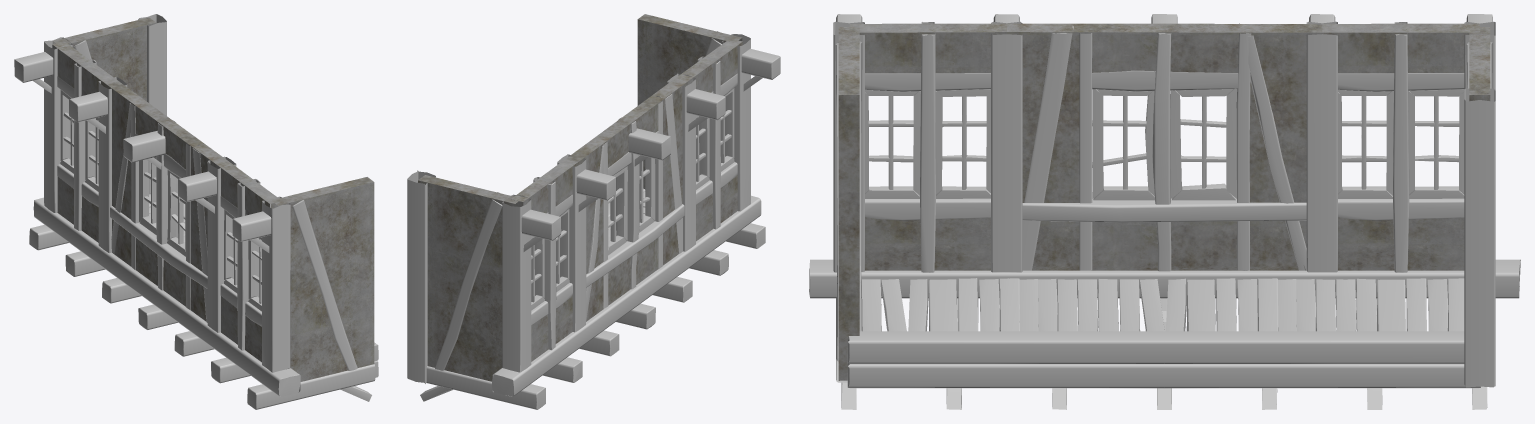
File: SM_Extension02.fbx
The picture shows the model from 3 angles, left to right: view 1: azimuth 30°, elevation 25°; view 2: azimuth 150°, elevation 25°; view 3: azimuth 270°, elevation 25°; orthographic projection. The views are drawn at different scales.
Parts seen in each view (by area): view 1: SM_Extension02_LOD0; view 2: SM_Extension02_LOD0; view 3: SM_Extension02_LOD0.
Boxes of the visible parts, x1,y1,x2,y2 form: SM_Extension02_LOD0: (14,14,378,409); SM_Extension02_LOD0: (407,14,780,409); SM_Extension02_LOD0: (809,14,1520,409).
Bounding box in the file's own units: 228 × 677 × 336.
